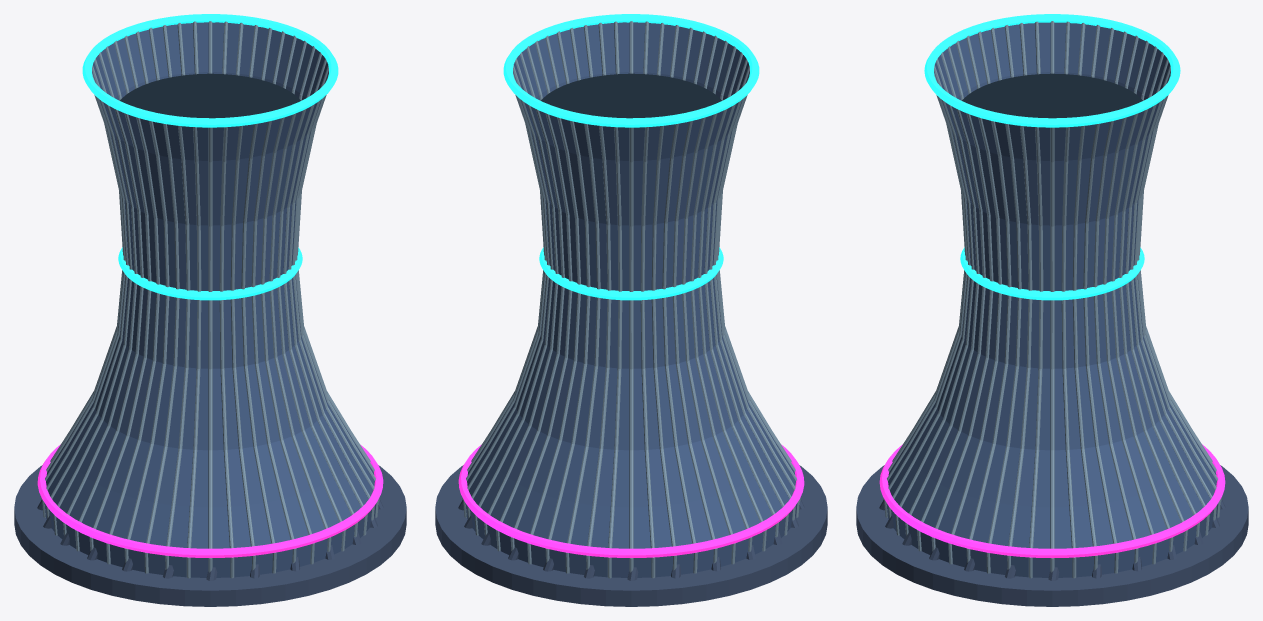
File: cooling-v2.glb
The picture shows the model from 3 angles, left to right: view 1: azimuth 30°, elevation 25°; view 2: azimuth 150°, elevation 25°; view 3: azimuth 270°, elevation 25°; orthographic projection.
Parts seen in each view (by area): view 1: Cooling shell, Foundation pad, Inner basin, Tower belt.003, Tower belt.001, Tower belt.002; view 2: Cooling shell, Foundation pad, Inner basin, Tower belt.003, Tower belt.001, Tower belt.002; view 3: Cooling shell, Foundation pad, Inner basin, Tower belt.003, Tower belt.001, Tower belt.002.
Boxes of the visible parts, box(x1,y1,x2,y2) form: Cooling shell: box(44, 22, 376, 577); Foundation pad: box(14, 465, 406, 606); Inner basin: box(120, 73, 300, 118); Tower belt.003: box(82, 14, 338, 127); Tower belt.001: box(37, 444, 383, 557); Tower belt.002: box(118, 247, 302, 300); Cooling shell: box(465, 22, 797, 577); Foundation pad: box(435, 465, 827, 606); Inner basin: box(541, 73, 721, 118); Tower belt.003: box(503, 14, 759, 127); Tower belt.001: box(458, 444, 804, 557); Tower belt.002: box(539, 247, 723, 300); Cooling shell: box(886, 22, 1218, 577); Foundation pad: box(856, 465, 1248, 606); Inner basin: box(962, 73, 1142, 118); Tower belt.003: box(924, 14, 1180, 127); Tower belt.001: box(879, 444, 1225, 558); Tower belt.002: box(960, 247, 1144, 300).
Bounding box in the file's own units: 3.5 × 4.5 × 3.5.
